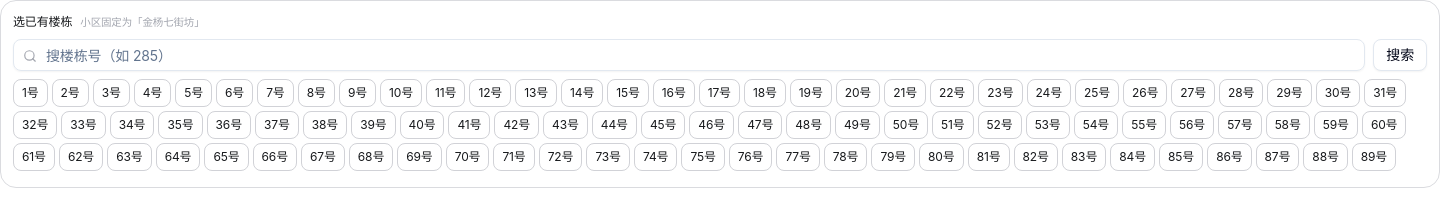
Test case: ReviewTargetPicker · 大社区楼栋可达性（呼玛二村 285 号） › 关键词搜索可命中第一页之外的 285 号
Expected: the button "1号" is shown, [13,79,48,107]
Type "285" into the field named "搜索楼栋号" at (689, 55), box [13,39,1365,71]
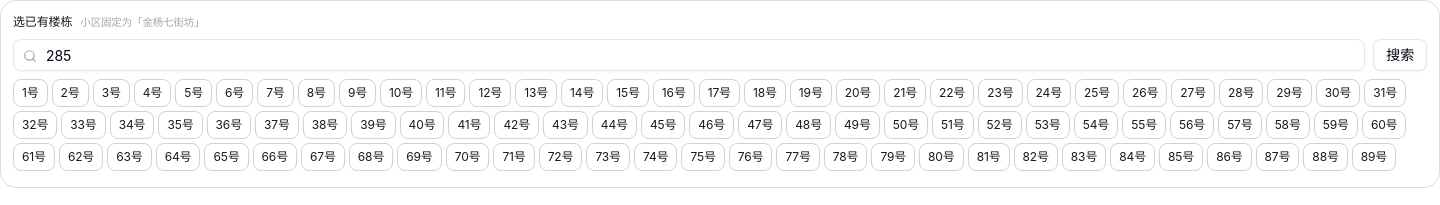
Click the button "搜索" at (1400, 55), box [1373,39,1427,71]
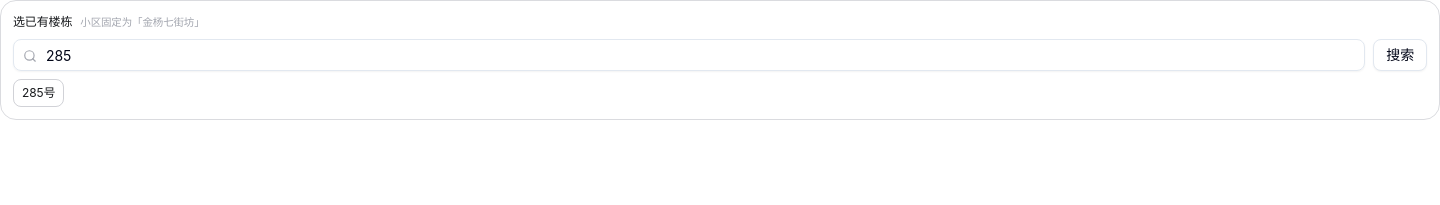
Result: the button "285号" is shown at [13,79,64,107]
